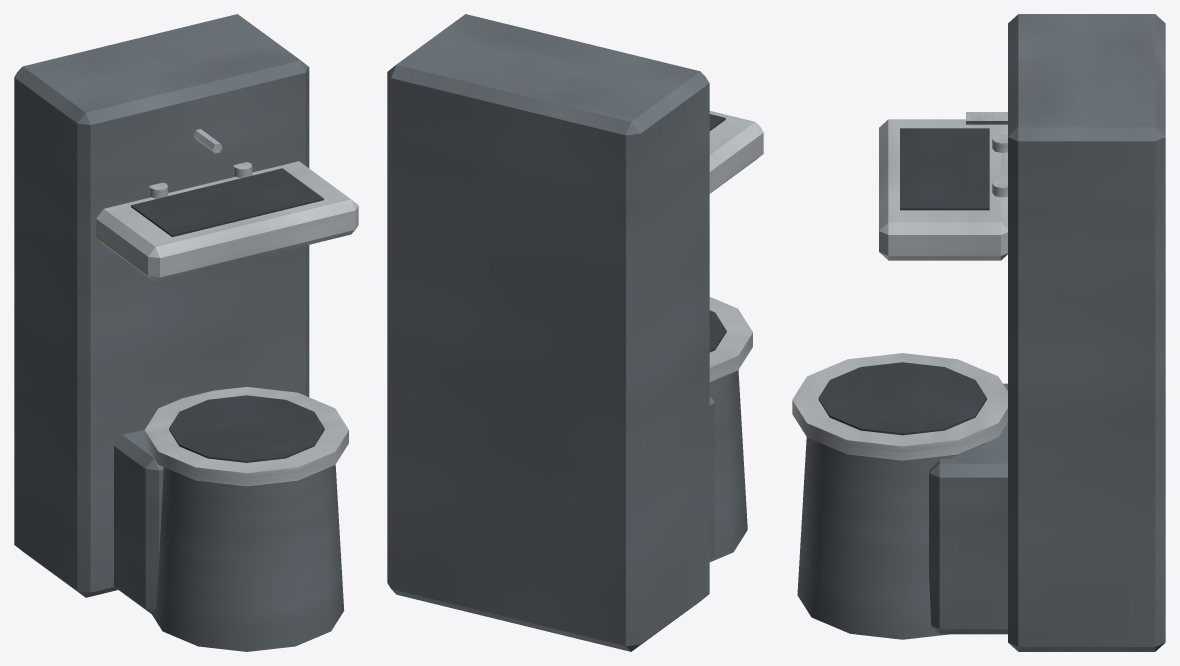
Rendered from toilet_sink.fbx.
The picture shows the model from 3 angles, left to right: view 1: azimuth 30°, elevation 25°; view 2: azimuth 150°, elevation 25°; view 3: azimuth 270°, elevation 25°; orthographic projection. The views are drawn at different scales.
Visible parts, largest first — view 1: toilet_sink; view 2: toilet_sink; view 3: toilet_sink.
Part boxes in pixels (<box>): toilet_sink: <box>14,14,358,651</box>; toilet_sink: <box>387,14,763,651</box>; toilet_sink: <box>792,14,1165,651</box>.
Bounding box in the file's own units: 0.55 × 1.1 × 0.71.
1 material, 1 textured.
